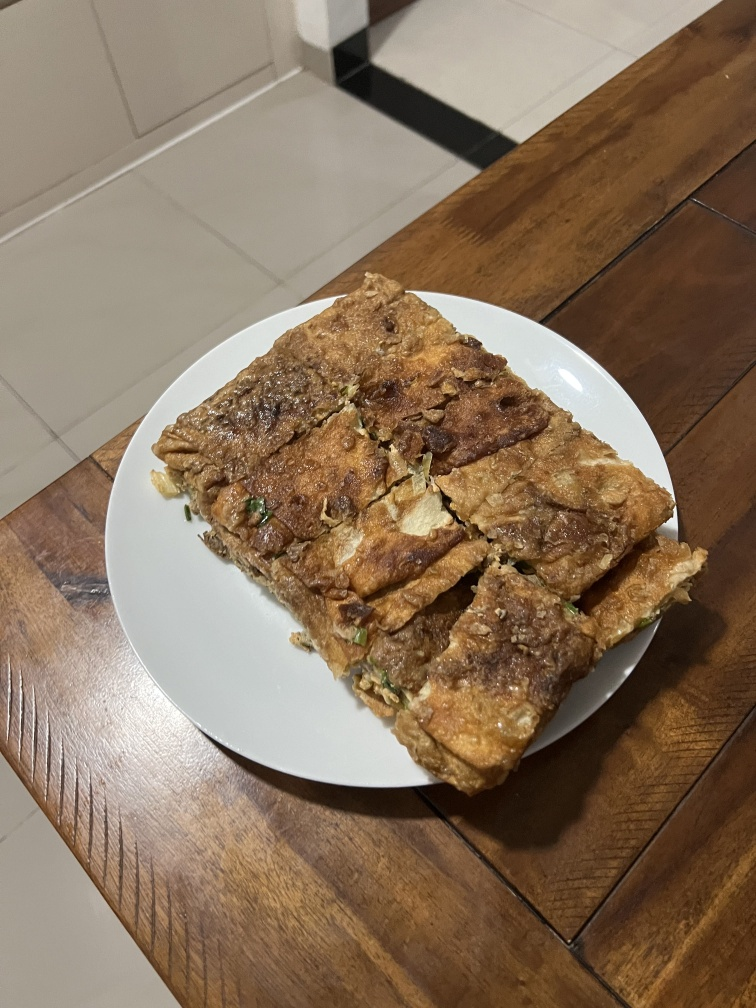martabak telor: (401, 561, 597, 801), (454, 432, 671, 583), (267, 492, 488, 622), (352, 321, 550, 457), (151, 342, 354, 462), (184, 422, 405, 530), (287, 263, 470, 386)
